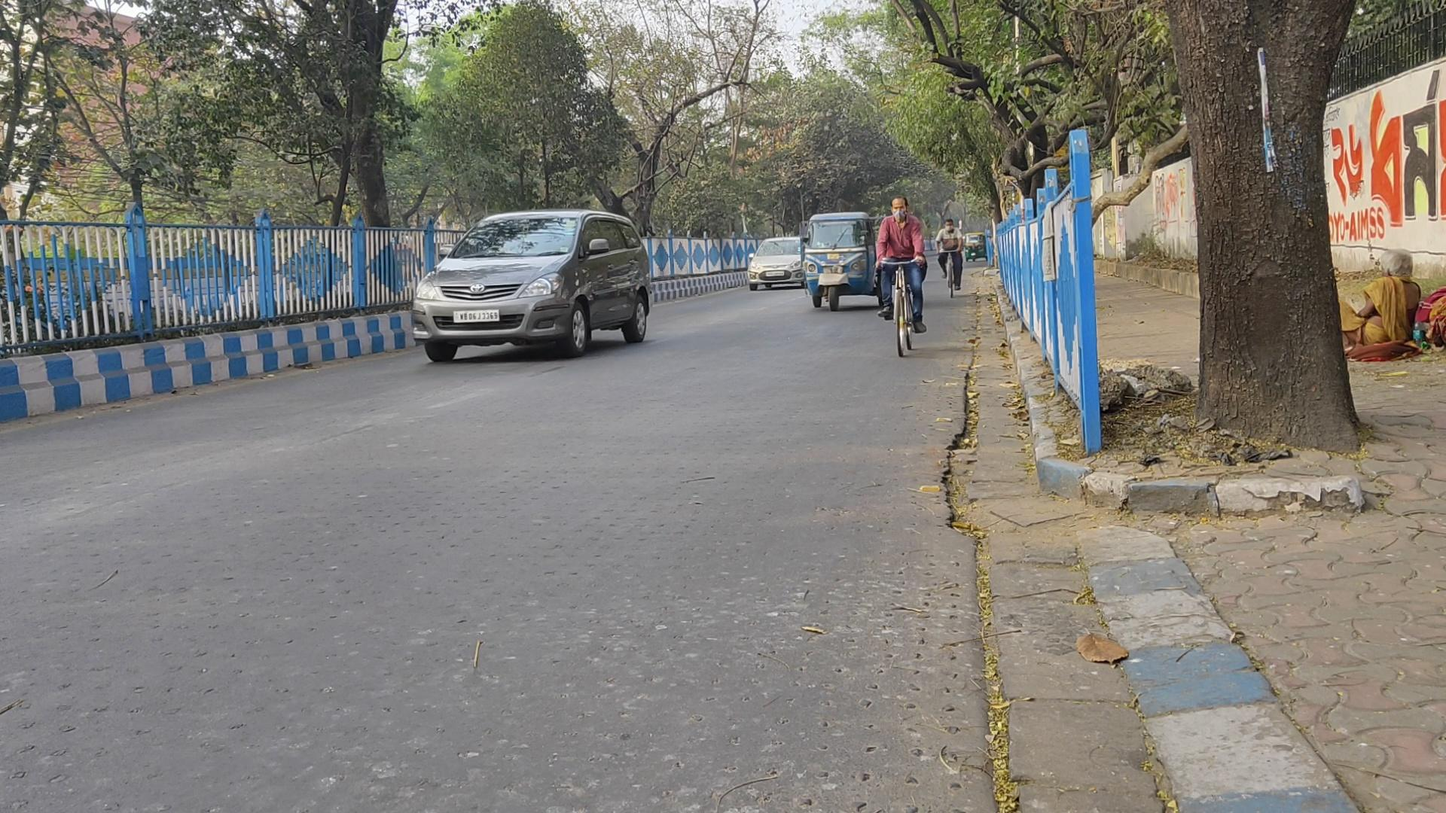Auto: (964, 231, 987, 263)
bike: (876, 193, 926, 358), (934, 218, 966, 298)
car: (411, 207, 650, 362), (746, 235, 804, 292)
van: (801, 212, 881, 310)
